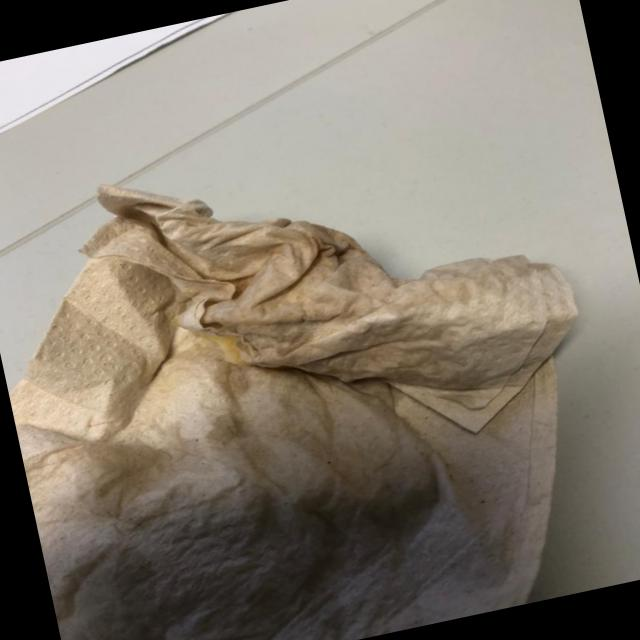organic waste: (0, 90, 636, 640)
